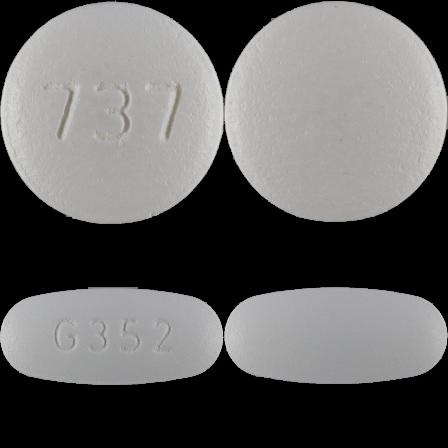51655-003: (0, 0, 224, 224)
